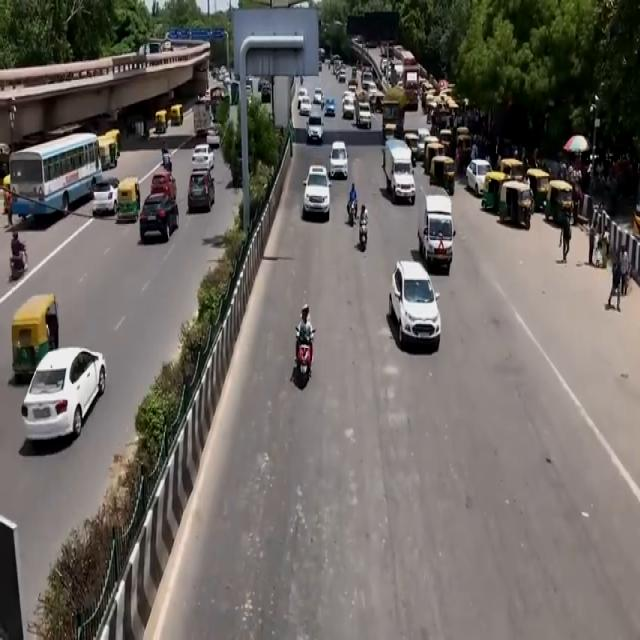BUS: (8, 131, 101, 224)
MOTORCYCLE: (296, 344, 312, 389), (358, 220, 369, 251)
TRUCK: (417, 192, 457, 277), (384, 136, 416, 203)
